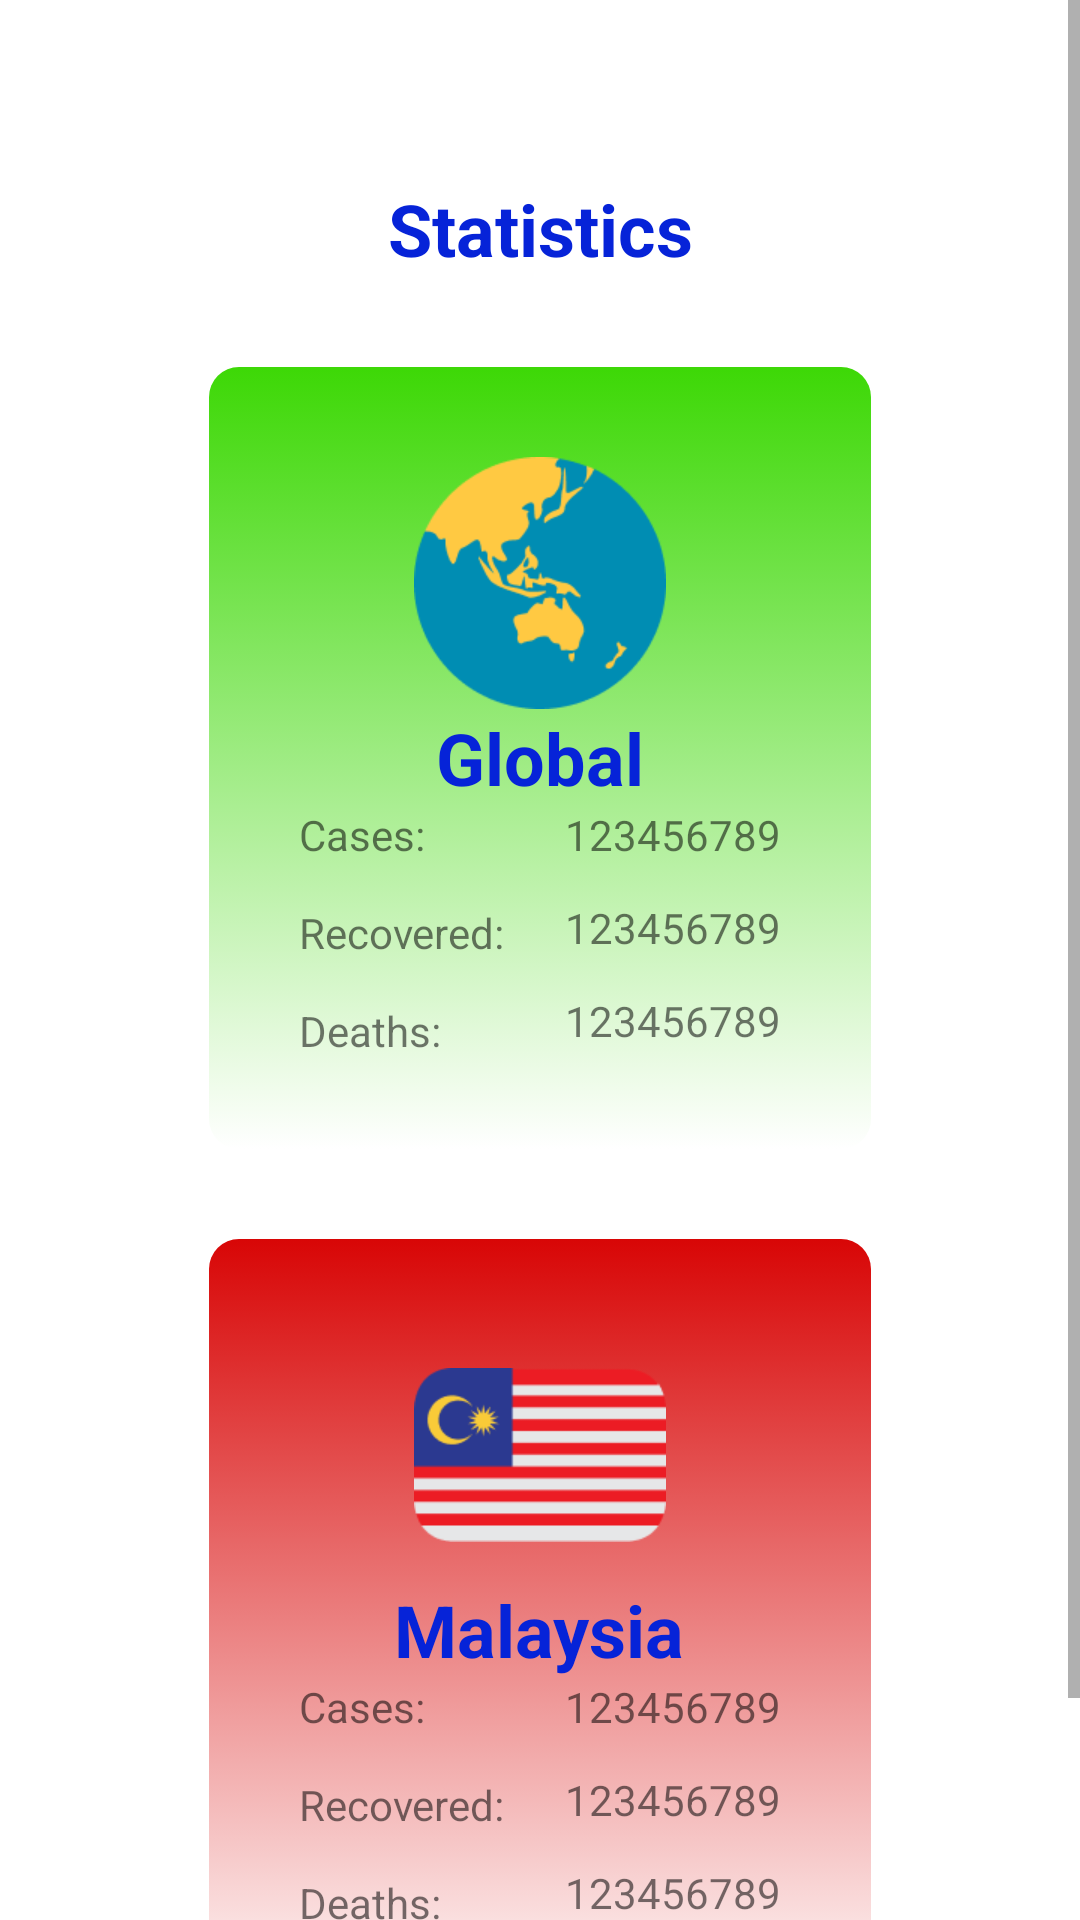

Point at icon controls on the screen. Image size 1080px×1920px, points as (x=x, y=y).
Globe Image: (x=540, y=583)
